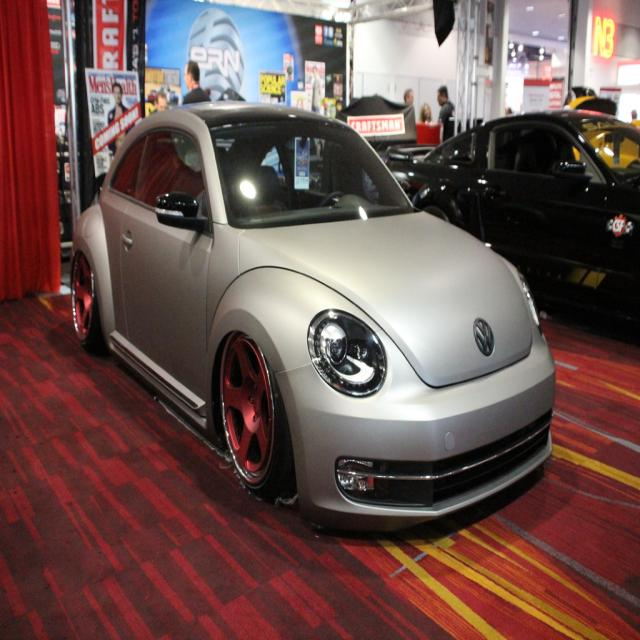car: (64, 94, 550, 537)
